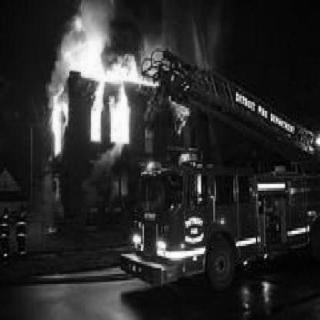Fire: (40, 0, 194, 158)
